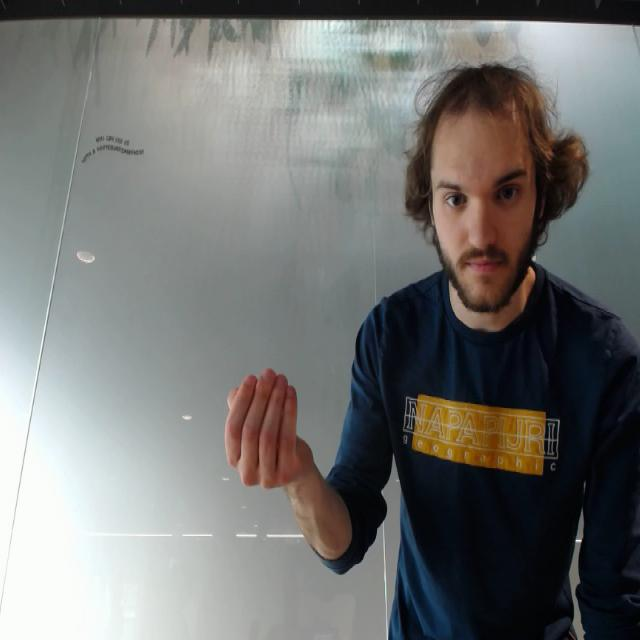forward: (222, 361, 318, 498)
